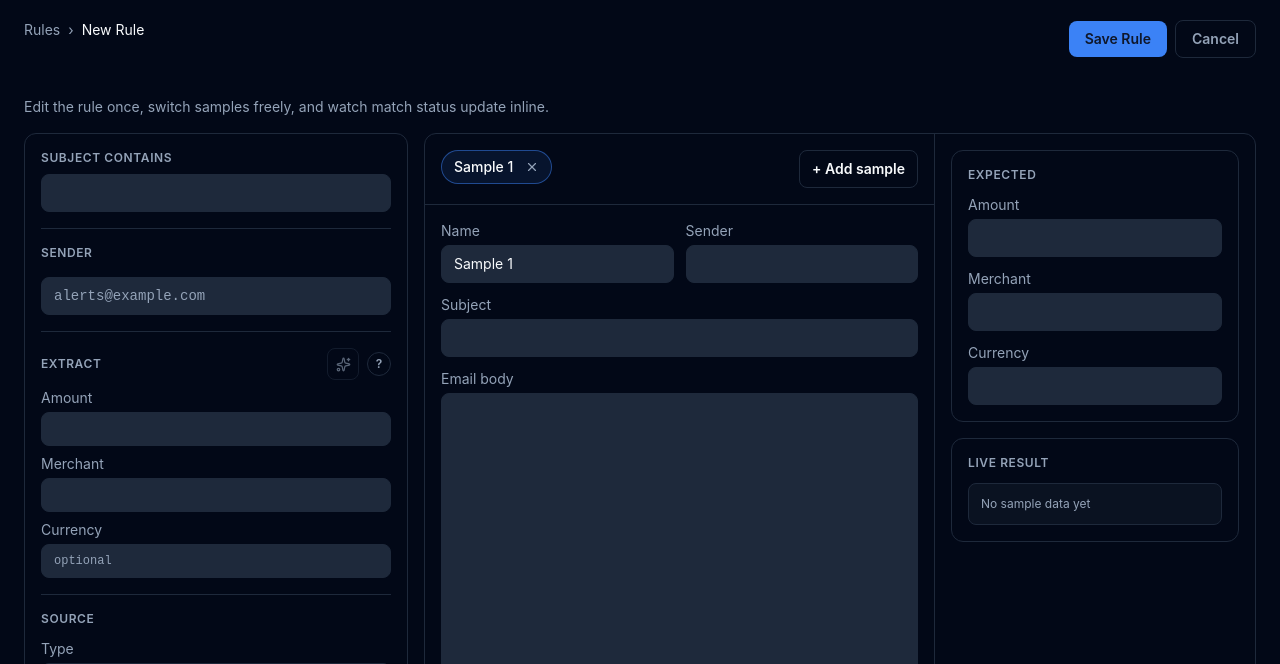
Test: RuleForm diagnostics › adds exact sender emails with Enter and has no add sender button
The image size is (1280, 664).
Type "alerts@hdfcbank.net" into the field named "Add sender". click: (216, 296)
box: 41,277 -> 391,315
Then press Enter
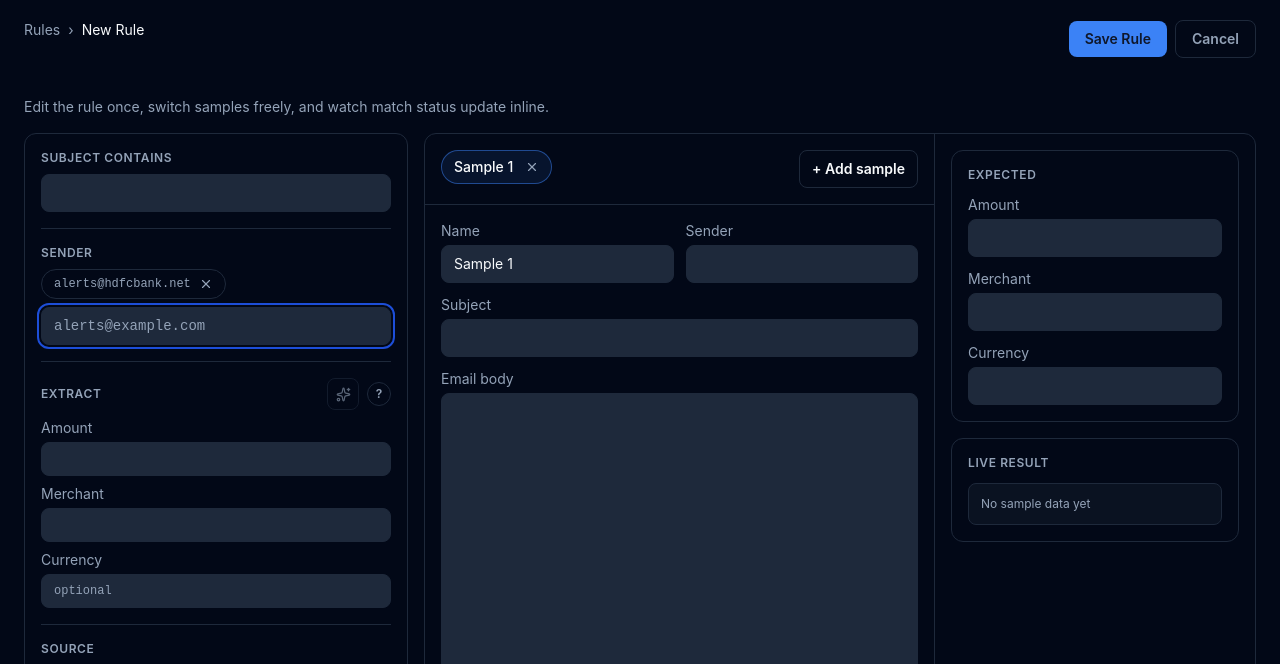
expect the text "alerts@hdfcbank.net" is shown: met, box 41,269 -> 226,299
expect the button named "Remove alerts@hdfcbank.net" is shown: met, box 199,277 -> 213,291
